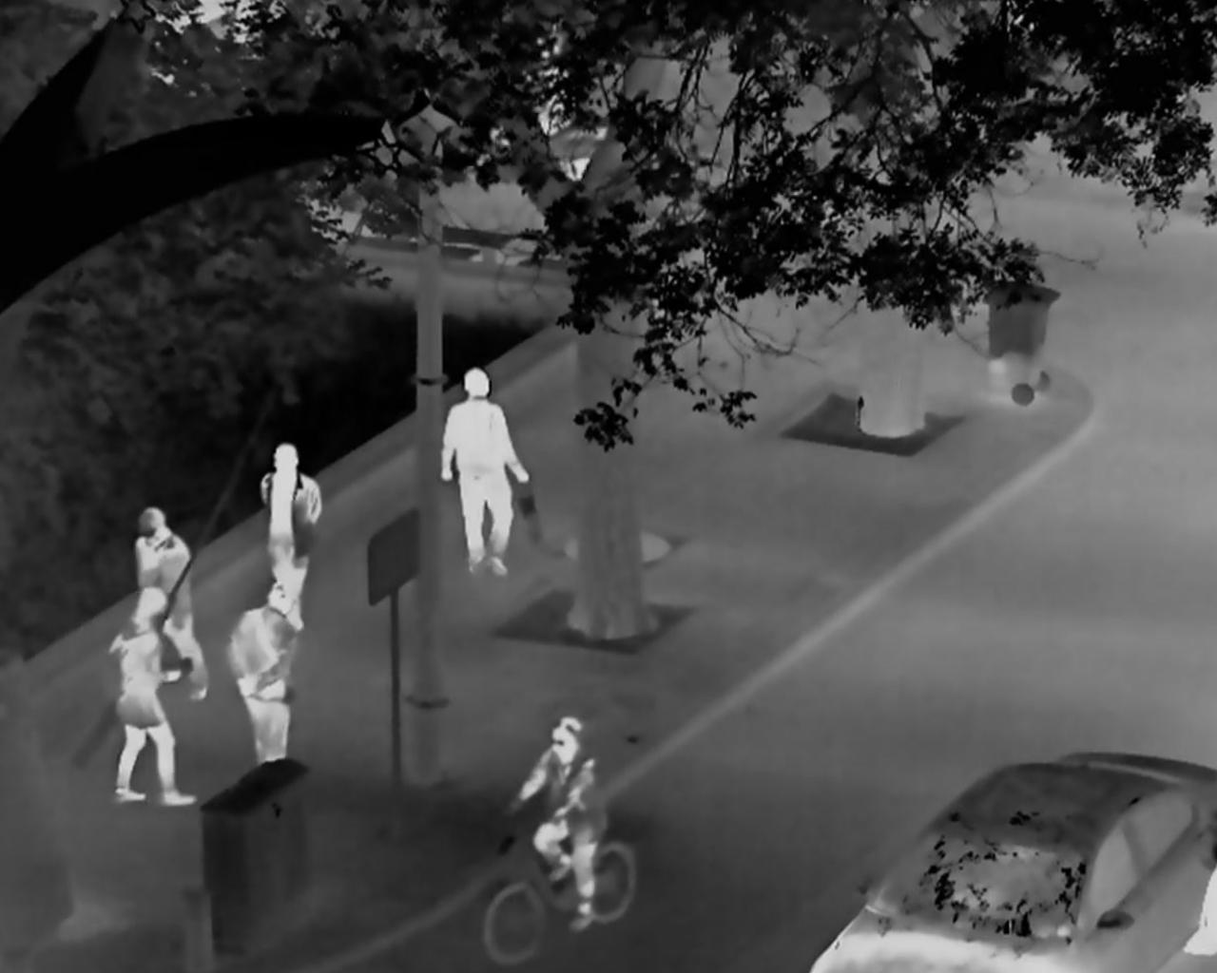person: (505, 715, 608, 933), (109, 588, 198, 808), (442, 364, 532, 577), (133, 506, 211, 701), (226, 581, 297, 762), (257, 442, 322, 633)
